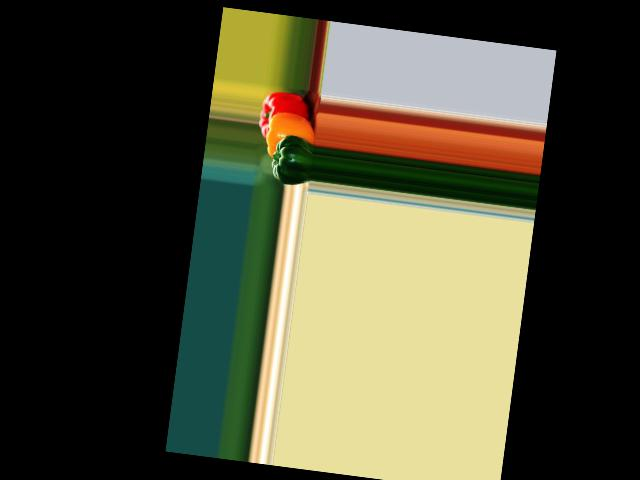bell_pepper: (257, 90, 318, 144)
